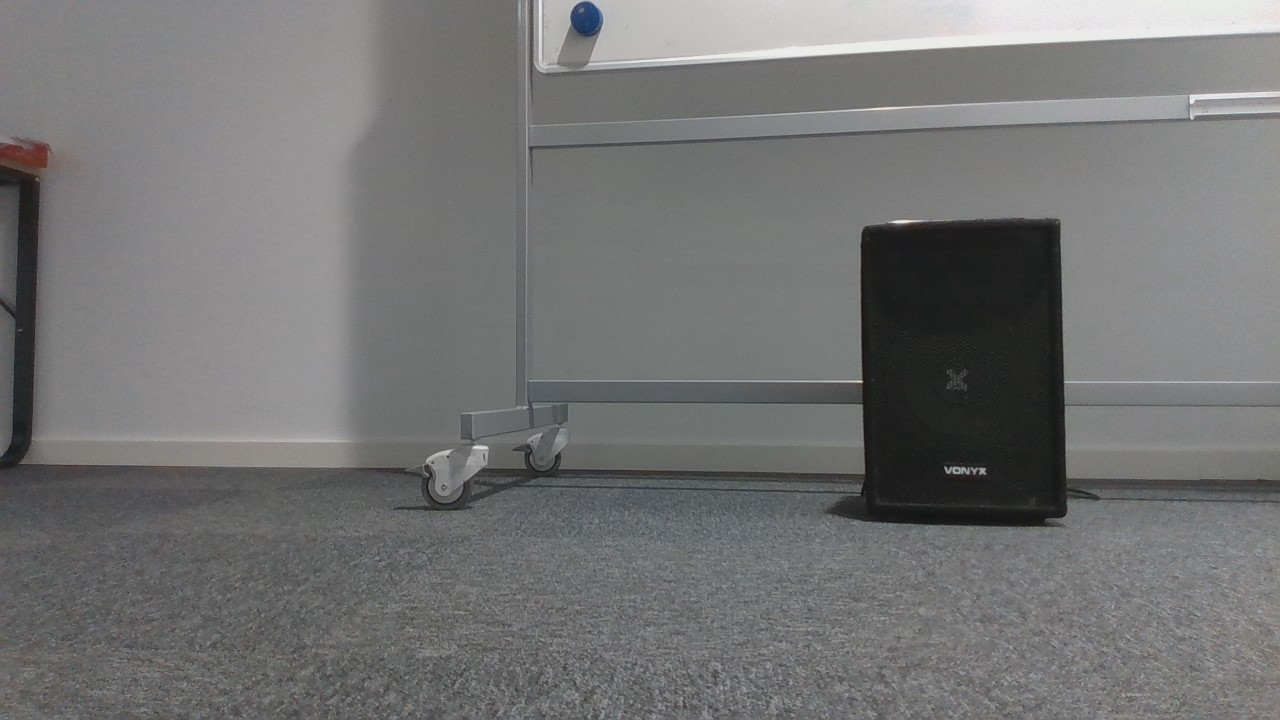alfa: (564, 2, 607, 36)
